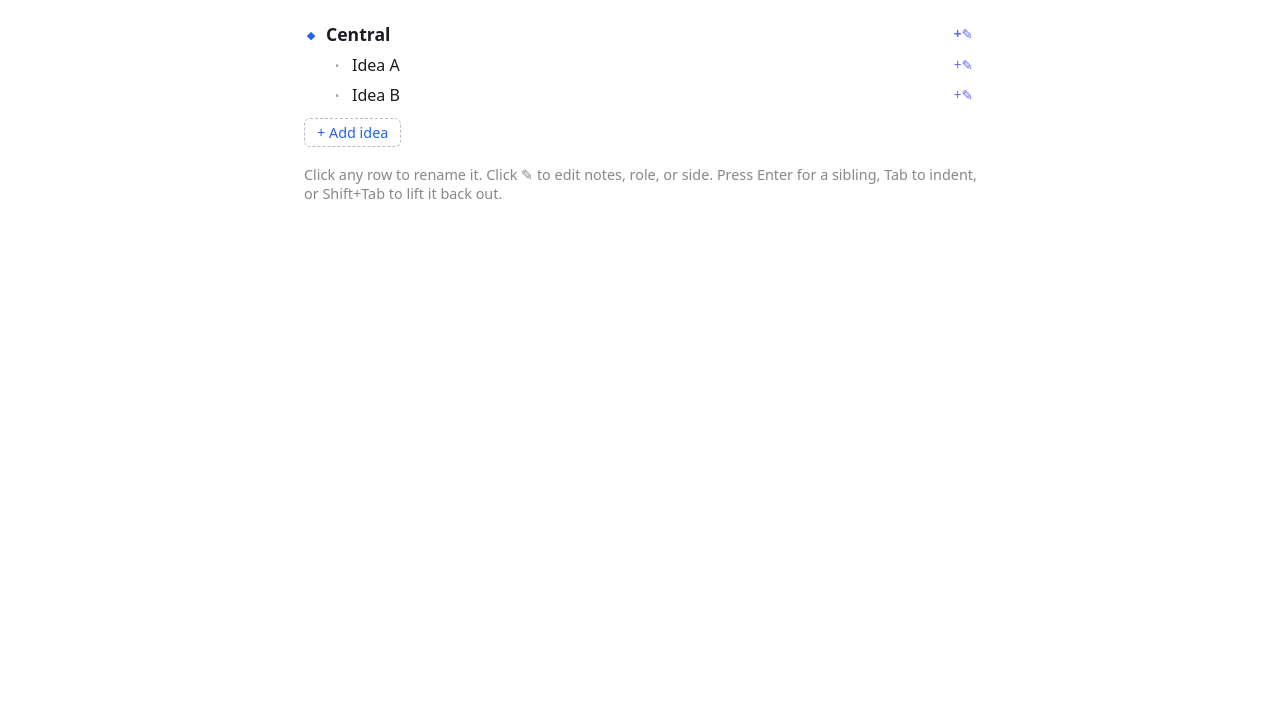
Test: OutlineView › click-to-edit puts the row in editing mode and Enter commits the rename
The image size is (1280, 720).
Click the list item with test id "outline-row-a" at (376,65), box [288,50,992,80]
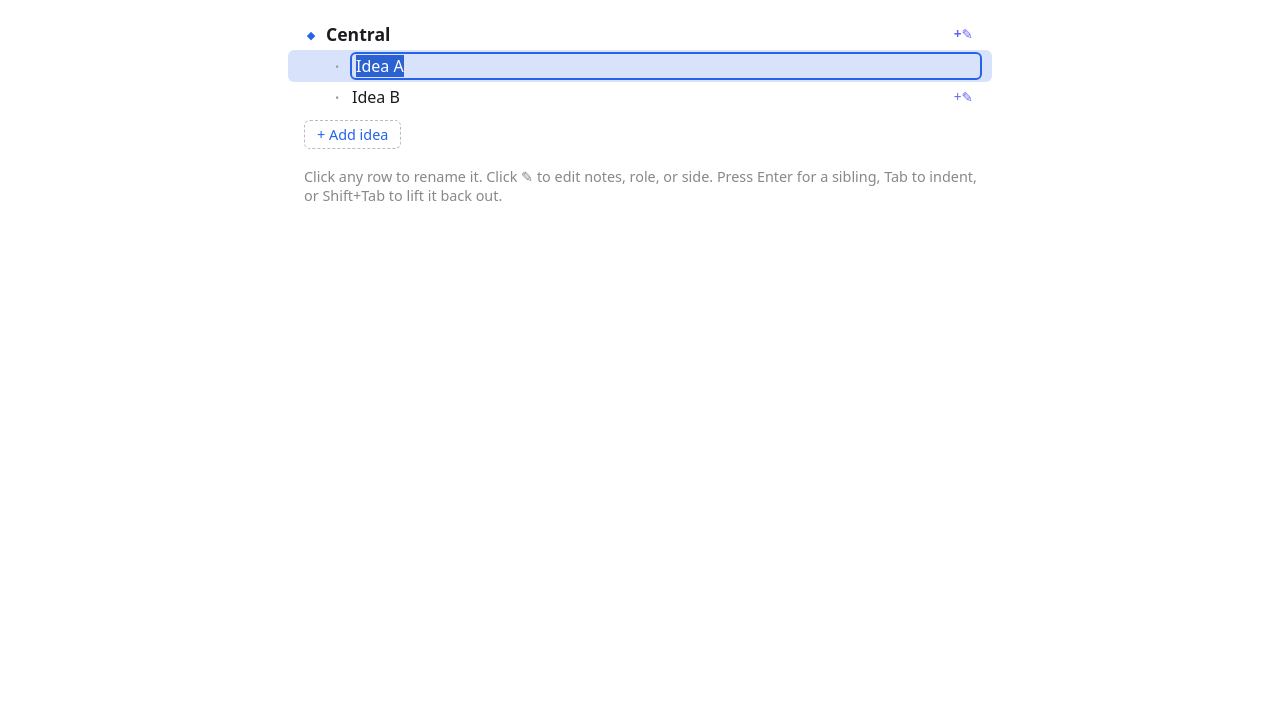
Replace the text in the field showing "Idea A" with "Renamed idea" at (666,66), box [352,54,980,78]
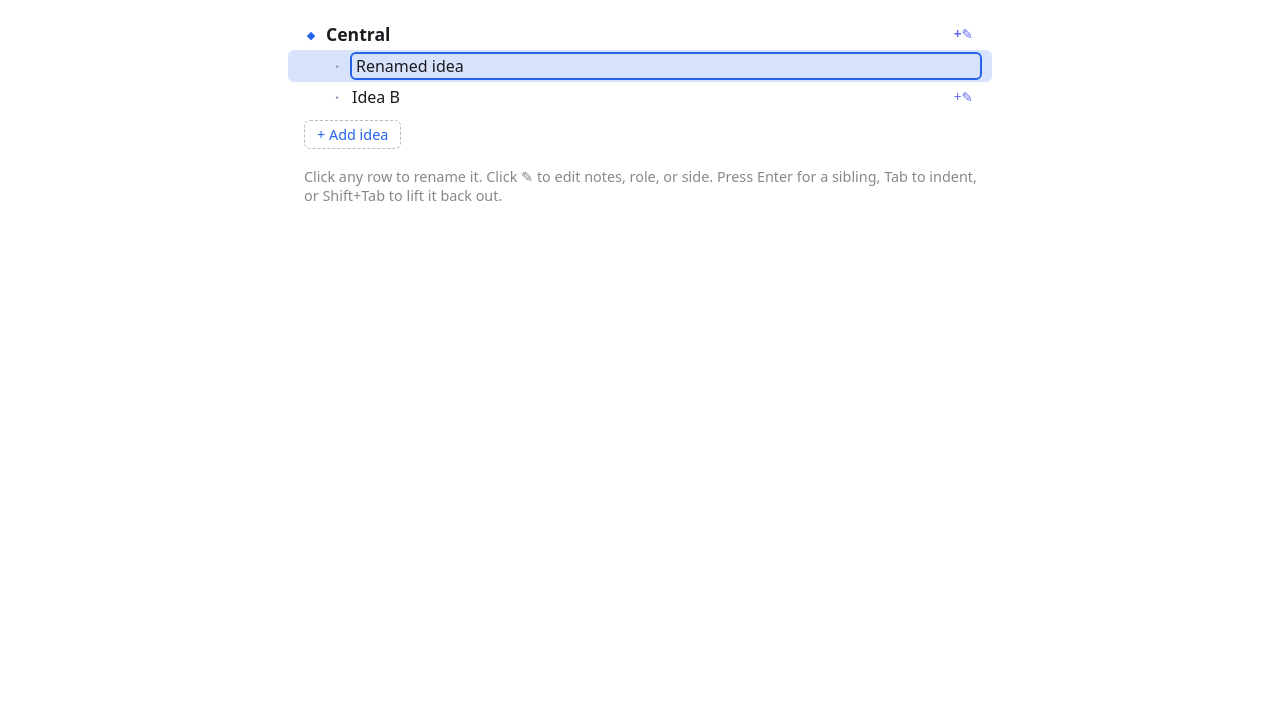
Press Enter in the field showing "Idea A", box [352,54,980,78]
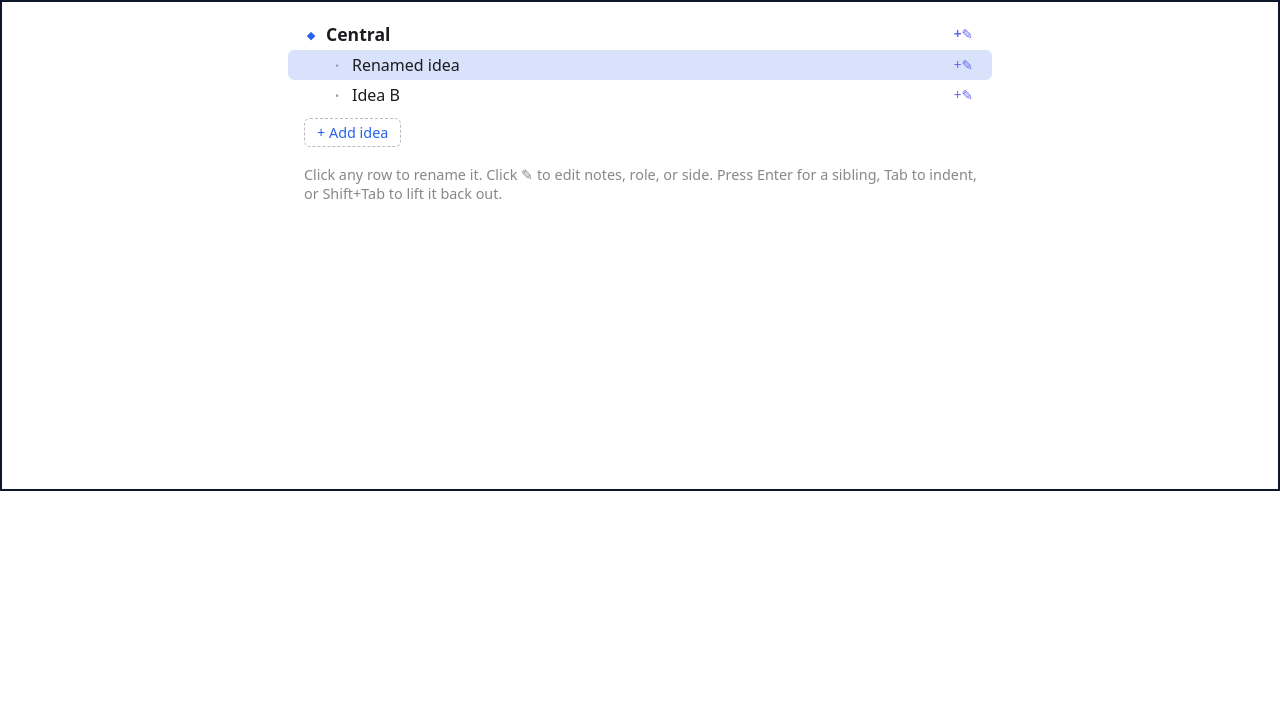
Now the text "Renamed idea" is shown, box [352,54,460,76]
